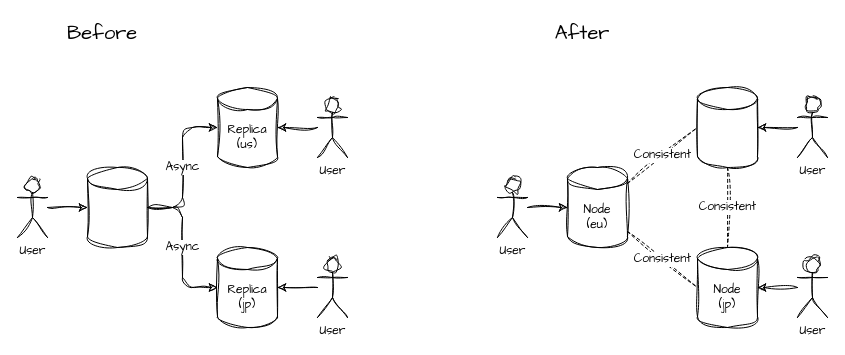
The diagram is 845 pixels wide and 355 high, and some of its shapes have lost their labels. The shapes that lost their labels are listed below. From the top down, each one's centre as x and y in pixels, then its label:
At (727,127): "Node (us)".
At (117,207): "Primary (eu)".
